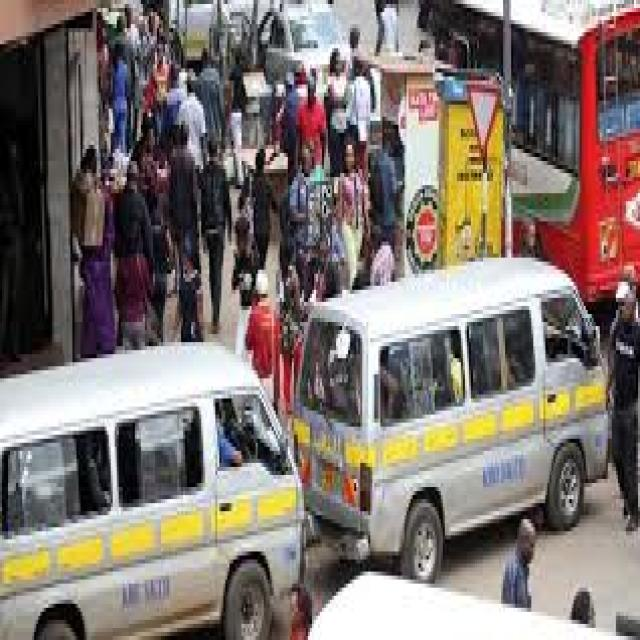bus: (418, 0, 640, 273)
matatu: (0, 327, 297, 640), (309, 292, 628, 535)
